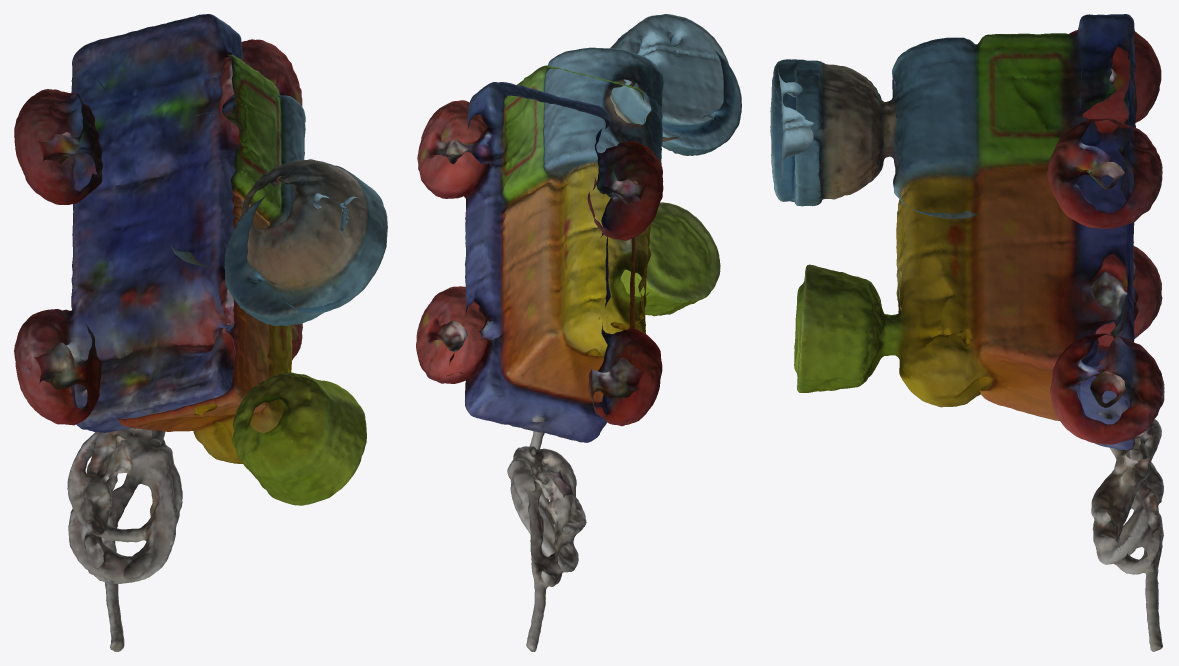
Rendered from train.glb.
The picture shows the model from 3 angles, left to right: view 1: azimuth 30°, elevation 25°; view 2: azimuth 150°, elevation 25°; view 3: azimuth 270°, elevation 25°; orthographic projection. The views are drawn at different scales.
Size of the model in its own units: 0.4245 by 1 by 0.5767.
